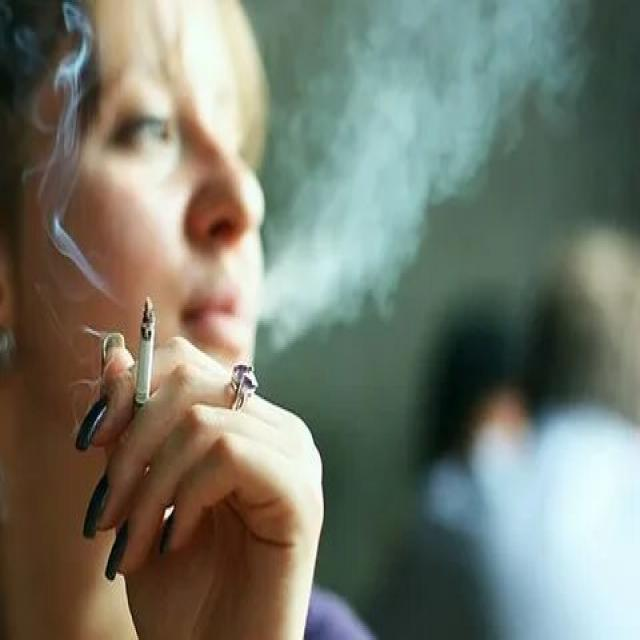cigarette: (132, 289, 159, 419)
